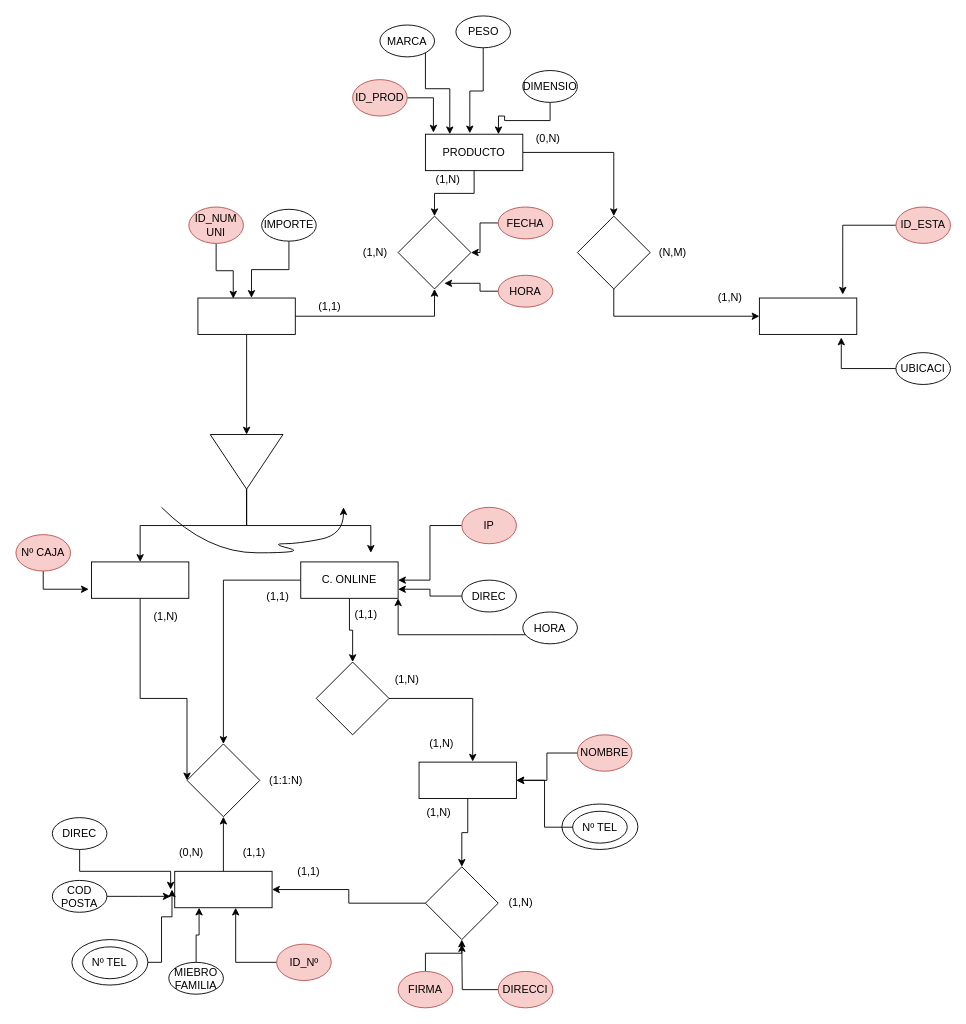
The diagram is 966 pixels wide and 1024 high, and some of its shapes have lost their labels. The shapes that lost their labels are listed below. From the top down, each one's centre as x and y in pixels, then its label:
At pixel 434 252: "CONSTA".
At pixel 613 252: "UBICADO".
At pixel 246 315: "COMPRAS".
At pixel 807 315: "ESTANTERIA".
At pixel 140 579: "C. FISICA".
At pixel 352 698: "REPARTE".
At pixel 223 780: "REALI COMPRA".
At pixel 467 780: "REPARTIDOR".
At pixel 223 889: "CLIENTE".
At pixel 461 903: "ENTREGA".
